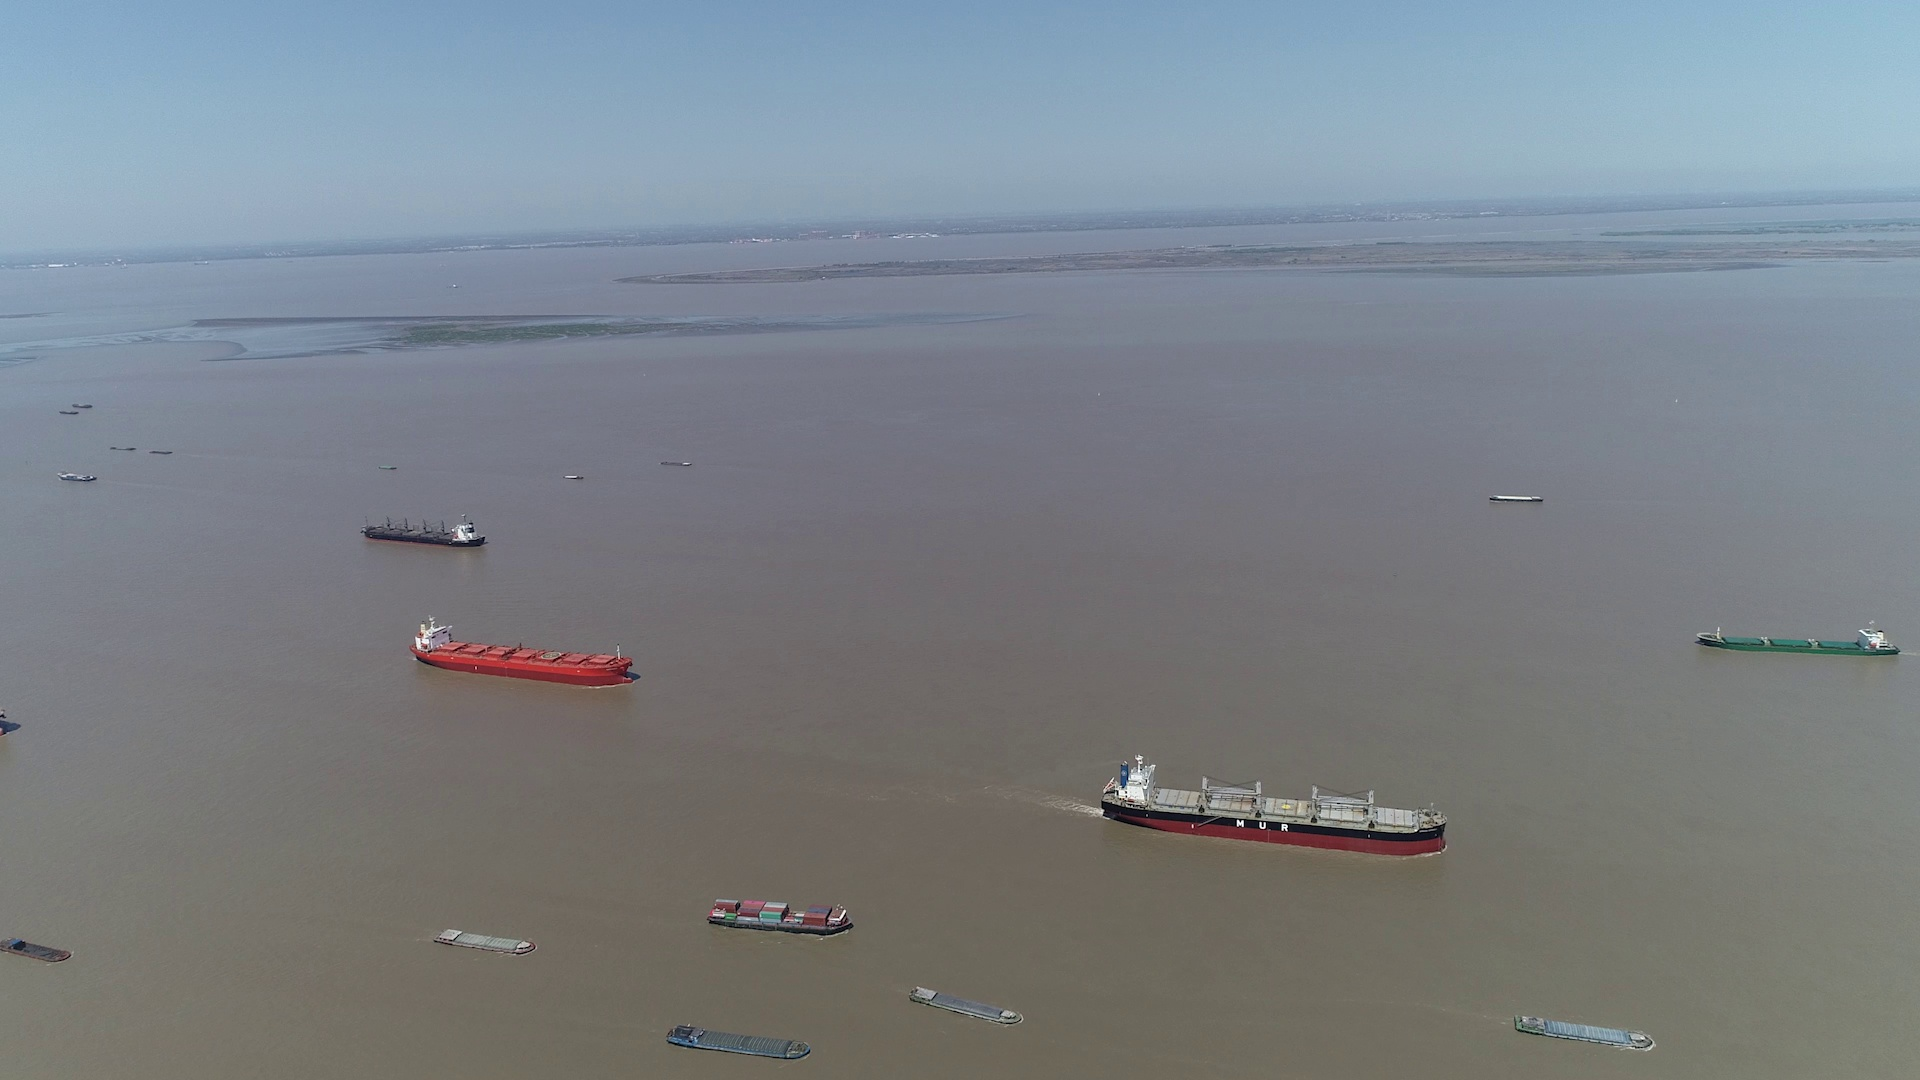ship: (1101, 757, 1447, 855), (411, 616, 632, 684), (1693, 626, 1905, 657), (705, 897, 853, 936), (665, 1026, 810, 1062), (1514, 1014, 1658, 1050), (910, 985, 1026, 1029), (361, 513, 487, 547), (436, 928, 538, 955), (1, 938, 70, 963), (55, 469, 98, 481), (1487, 495, 1543, 502), (659, 460, 692, 467)
